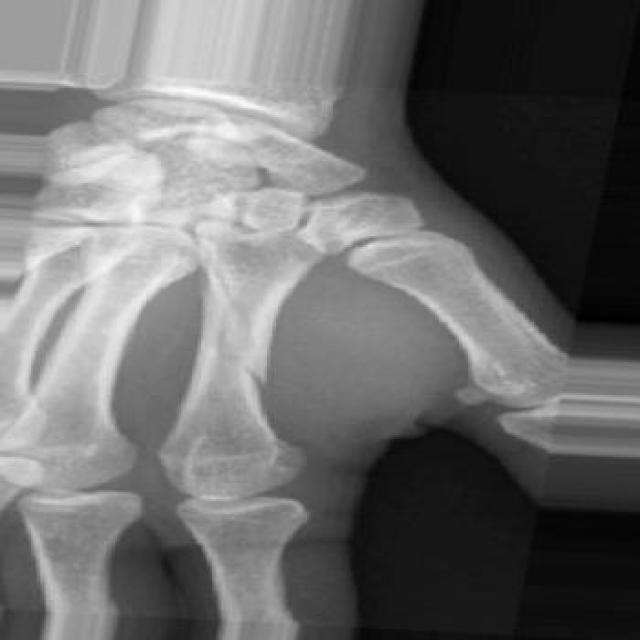Fracture: (200, 309, 294, 394)
